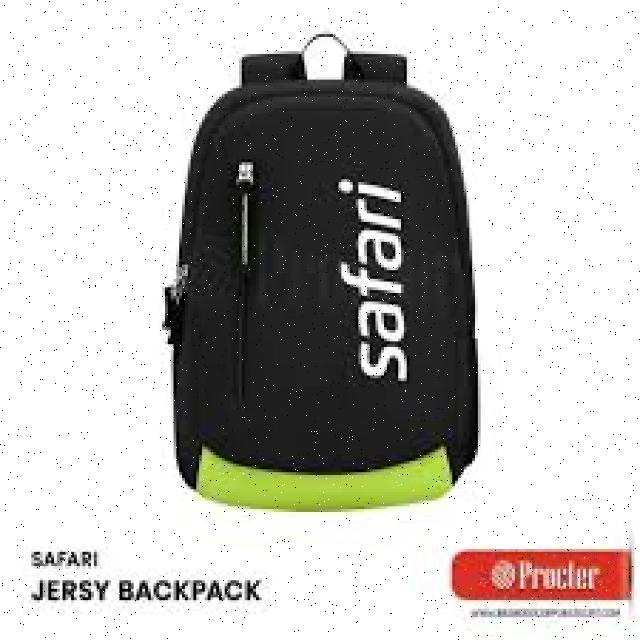backpack: (159, 31, 481, 509)
